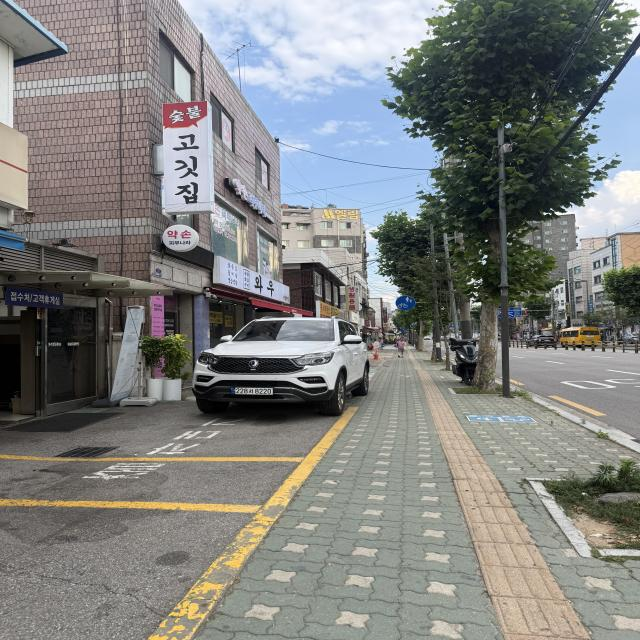car: (184, 305, 382, 425)
